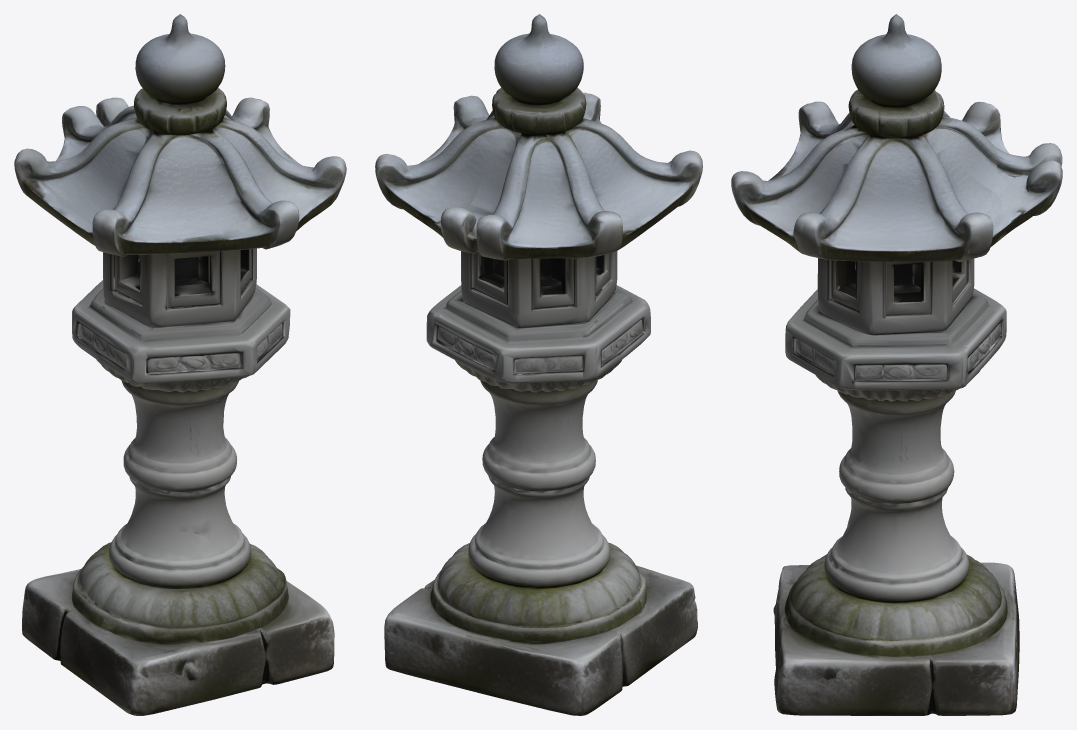
The model's file is stone_lantern_toro.glb.
The picture shows the model from 3 angles, left to right: view 1: azimuth 30°, elevation 25°; view 2: azimuth 150°, elevation 25°; view 3: azimuth 270°, elevation 25°; orthographic projection. The views are drawn at different scales.
Parts seen in each view (by area): view 1: node_0; view 2: node_0; view 3: node_0.
Part boxes in pixels (box(x1,y1,x2,y2)): node_0: box(14, 14, 346, 715); node_0: box(375, 14, 702, 715); node_0: box(731, 14, 1062, 715).
Size of the model in its own units: 0.827 by 2 by 0.9227.
1 material, 1 textured.
